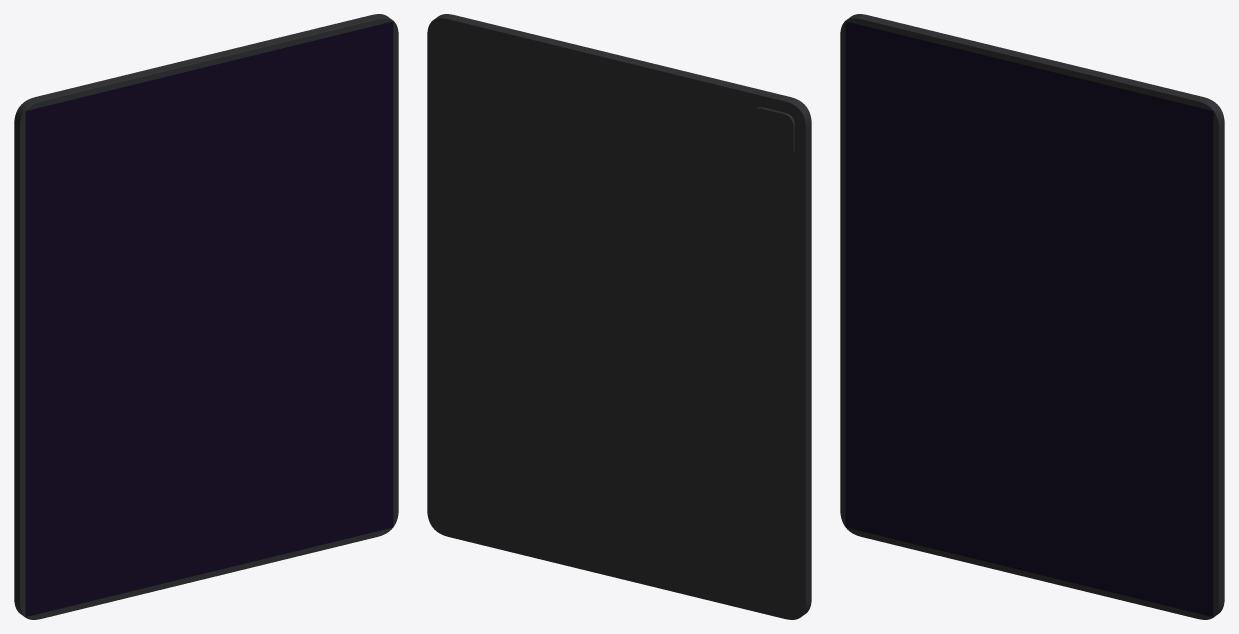
The model's file is ipad-pro-13.glb.
3 views of the same model, side by side, from view 1: azimuth 30°, elevation 25°; view 2: azimuth 150°, elevation 25°; view 3: azimuth 330°, elevation 25° (orthographic).
Bounding box in the file's own units: 0.2161 × 0.2822 × 0.0076.
